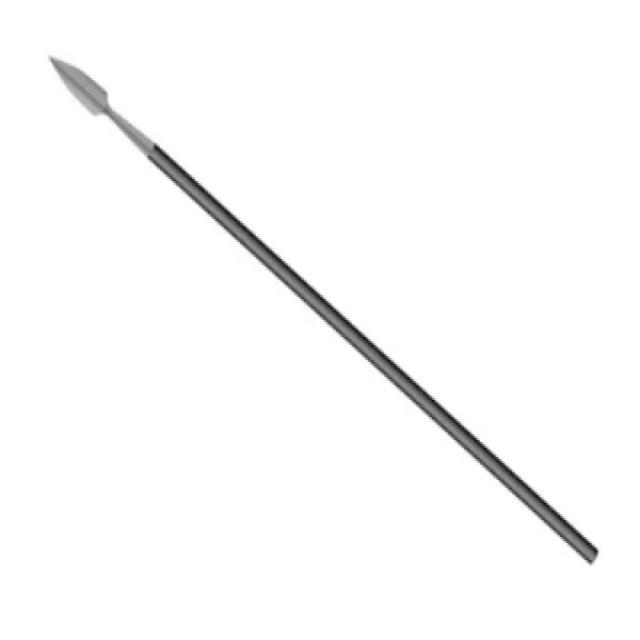spear: (32, 41, 607, 576)
